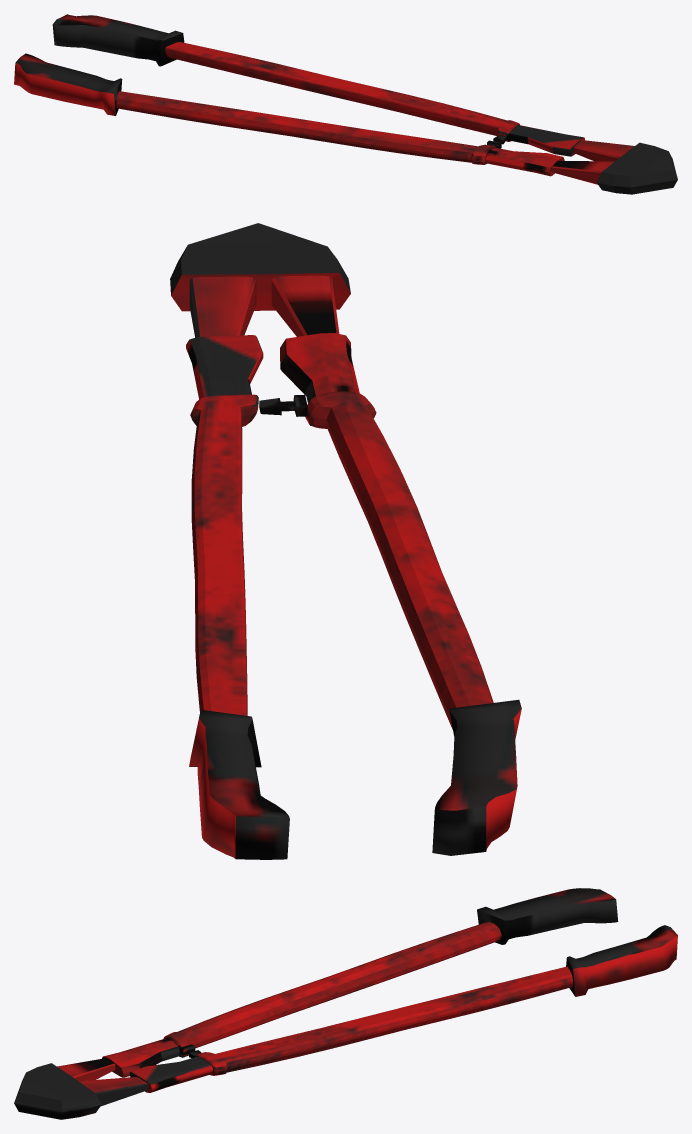
The model's file is Cizallas.obj.
3 views of the same model, one above another, from view 1: azimuth 30°, elevation 25°; view 2: azimuth 150°, elevation 25°; view 3: azimuth 270°, elevation 25° (orthographic). The views are drawn at different scales.
Parts seen in each view (by area): view 1: Cube.002_Cube.003, Cube.001_Cube.002, Cube.004_Cube.005, Cube_Cube.001, Cube.005_Cube.006; view 2: Cube.002_Cube.003, Cube.001_Cube.002, Cube.004_Cube.005, Cube.005_Cube.006, Cube_Cube.001; view 3: Cube.001_Cube.002, Cube.002_Cube.003, Cube.004_Cube.005, Cube.005_Cube.006, Cube_Cube.001.
Part boxes in pixels (x1=…): Cube.002_Cube.003: x1=116, y1=91, x2=564, y2=176; Cube.001_Cube.002: x1=165, y1=42, x2=584, y2=156; Cube.004_Cube.005: x1=552, y1=140, x2=677, y2=194; Cube_Cube.001: x1=52, y1=14, x2=184, y2=66; Cube.005_Cube.006: x1=14, y1=53, x2=122, y2=115; Cube.002_Cube.003: x1=280, y1=333, x2=493, y2=729; Cube.001_Cube.002: x1=186, y1=335, x2=263, y2=715; Cube.004_Cube.005: x1=170, y1=223, x2=350, y2=337; Cube.005_Cube.006: x1=432, y1=699, x2=521, y2=855; Cube_Cube.001: x1=189, y1=710, x2=289, y2=859; Cube.001_Cube.002: x1=130, y1=966, x2=573, y2=1092; Cube.002_Cube.003: x1=102, y1=922, x2=501, y2=1077; Cube.004_Cube.005: x1=14, y1=1058, x2=147, y2=1119; Cube.005_Cube.006: x1=477, y1=888, x2=618, y2=944; Cube_Cube.001: x1=566, y1=925, x2=677, y2=996.
Bounding box in the file's own units: 1.58 × 0.0905 × 2.09.
1 material, 1 textured.
